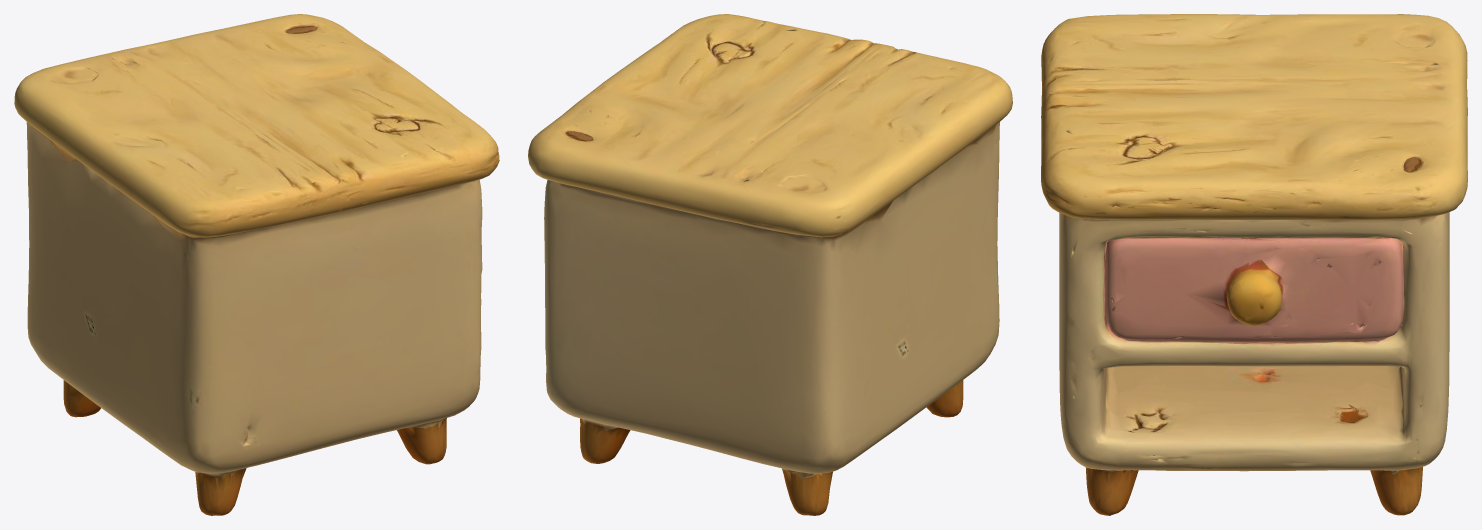
The model's file is room-nightstand.glb.
3 views of the same model, side by side, from view 1: azimuth 30°, elevation 25°; view 2: azimuth 150°, elevation 25°; view 3: azimuth 270°, elevation 25° (orthographic). The views are drawn at different scales.
Parts seen in each view (by area): view 1: tripo_node_9269dfab-8786-4e0e-8a17-30607c95587f; view 2: tripo_node_9269dfab-8786-4e0e-8a17-30607c95587f; view 3: tripo_node_9269dfab-8786-4e0e-8a17-30607c95587f.
Part boxes in pixels (x1=…): tripo_node_9269dfab-8786-4e0e-8a17-30607c95587f: x1=14, y1=14, x2=499, y2=515; tripo_node_9269dfab-8786-4e0e-8a17-30607c95587f: x1=528, y1=14, x2=1012, y2=515; tripo_node_9269dfab-8786-4e0e-8a17-30607c95587f: x1=1041, y1=14, x2=1467, y2=515.
Bounding box in the file's own units: 0.9751 × 0.9133 × 0.9753.
1 material, 1 textured.
